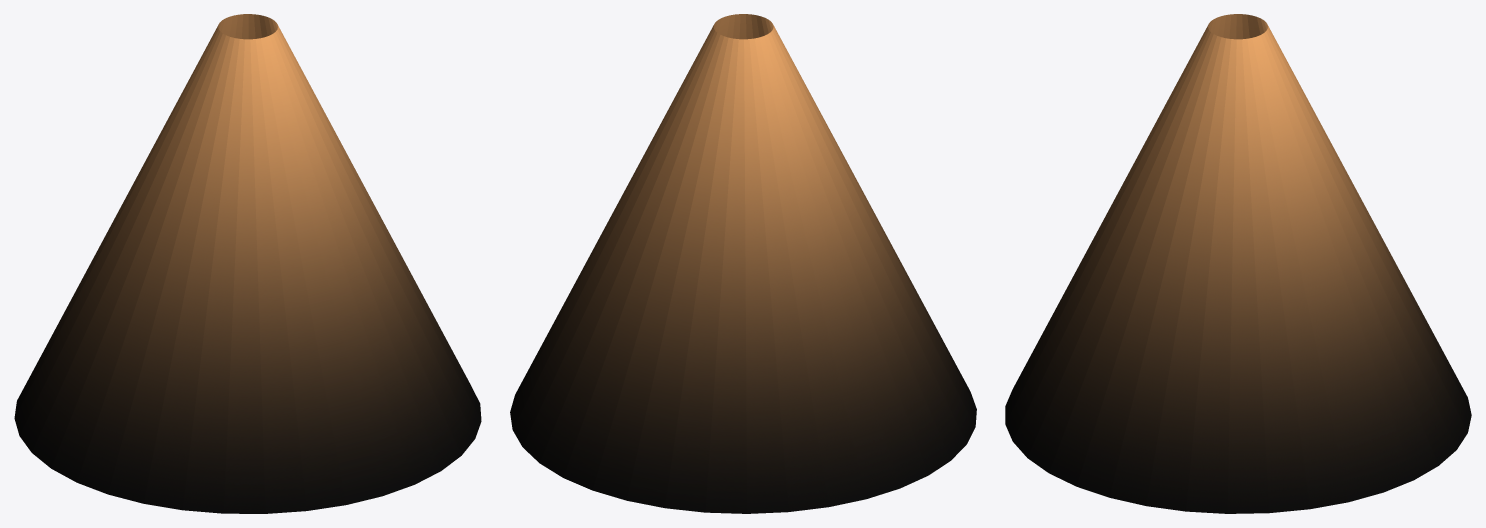
Rendered from lightConeDouble.fbx.
The picture shows the model from 3 angles, left to right: view 1: azimuth 30°, elevation 25°; view 2: azimuth 150°, elevation 25°; view 3: azimuth 270°, elevation 25°; orthographic projection.
Parts seen in each view (by area): view 1: Cone.001, Cone; view 2: Cone.001, Cone; view 3: Cone.001, Cone.
Boxes of the visible parts, x1=… form: Cone.001: x1=14, y1=24, x2=481, y2=513; Cone: x1=218, y1=14, x2=277, y2=39; Cone.001: x1=510, y1=25, x2=976, y2=513; Cone: x1=713, y1=14, x2=773, y2=39; Cone.001: x1=1005, y1=25, x2=1471, y2=513; Cone: x1=1208, y1=14, x2=1267, y2=39.
Size of the model in its own units: 218 by 200 by 218.
